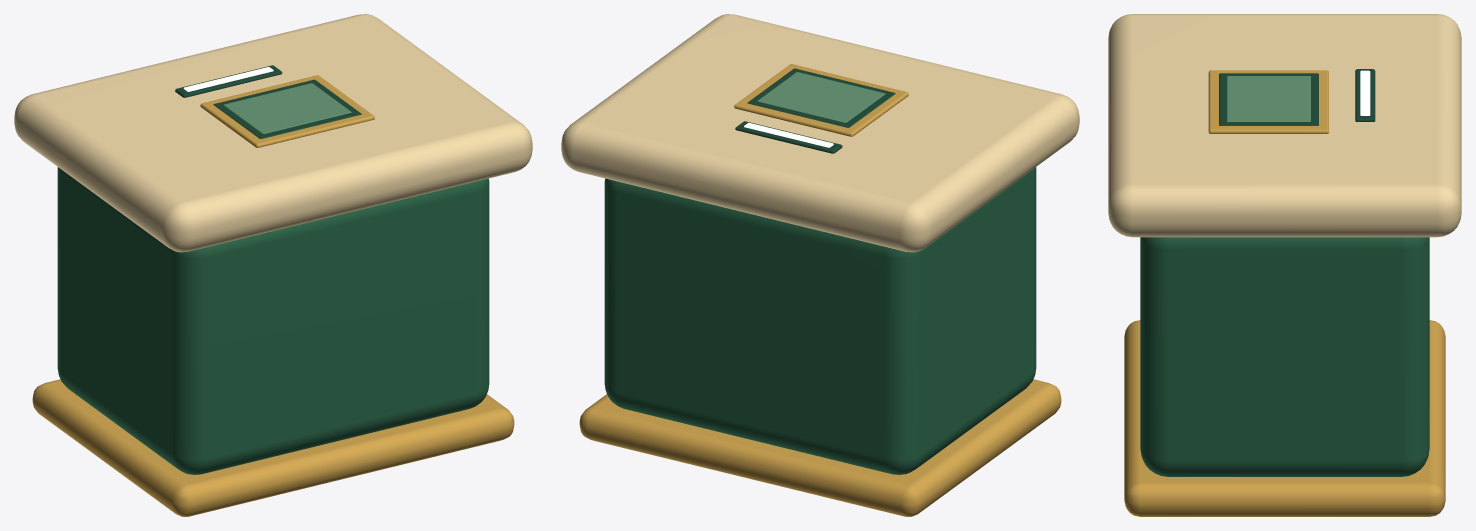
The model's file is id_desk_tier2.glb.
3 renders of one model, left to right at view 1: azimuth 30°, elevation 25°; view 2: azimuth 150°, elevation 25°; view 3: azimuth 270°, elevation 25°, orthographic. The views are drawn at different scales.
Visible parts, largest first — view 1: Body, Top, Plinth, ScanGlass, ScanFrame, ScanWell, SlotFrame; view 2: Body, Top, Plinth, ScanGlass, ScanFrame, ScanWell, SlotFrame; view 3: Top, Body, Plinth, ScanGlass, ScanFrame, ScanWell, SlotFrame, SlotLight.
Boxes of the visible parts, x1,y1,x2,y2 form: Body: [57, 167, 489, 474]; Top: [14, 14, 532, 252]; Plinth: [32, 379, 514, 516]; ScanGlass: [223, 83, 351, 133]; ScanFrame: [200, 75, 374, 147]; ScanWell: [213, 79, 361, 138]; SlotFrame: [175, 65, 282, 97]; Body: [604, 167, 1036, 474]; Top: [561, 14, 1079, 252]; Plinth: [579, 379, 1061, 516]; ScanGlass: [757, 72, 885, 122]; ScanFrame: [734, 64, 908, 136]; ScanWell: [747, 68, 895, 127]; SlotFrame: [735, 121, 842, 153]; Top: [1108, 14, 1461, 237]; Body: [1140, 237, 1429, 476]; Plinth: [1124, 320, 1445, 516]; ScanGlass: [1227, 76, 1310, 121]; ScanFrame: [1208, 70, 1328, 133]; ScanWell: [1219, 73, 1318, 125]; SlotFrame: [1355, 69, 1375, 121]; SlotLight: [1360, 70, 1370, 115].
Size of the model in its own units: 1.11 by 0.934 by 0.88.
